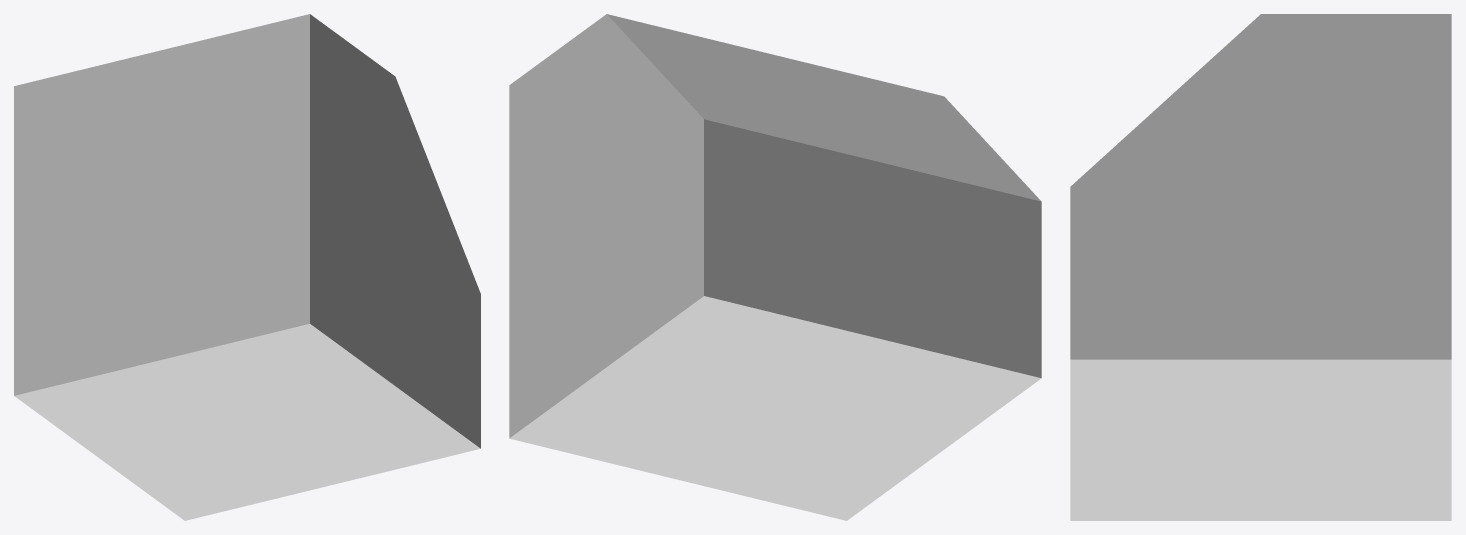
Rendered from r3c6_border_light_grey.gltf.
3 views of the same model, side by side, from view 1: azimuth 30°, elevation 25°; view 2: azimuth 150°, elevation 25°; view 3: azimuth 270°, elevation 25° (orthographic). The views are drawn at different scales.
Visible parts, largest first — view 1: r3c6_border_light_grey; view 2: r3c6_border_light_grey; view 3: r3c6_border_light_grey.
Boxes of the visible parts, bbox=[...] form: r3c6_border_light_grey: bbox=[14, 14, 480, 520]; r3c6_border_light_grey: bbox=[509, 14, 1041, 520]; r3c6_border_light_grey: bbox=[1070, 14, 1451, 520].
Size of the model in its own units: 2.1 by 2.1 by 2.1.
1 material, 1 textured.
